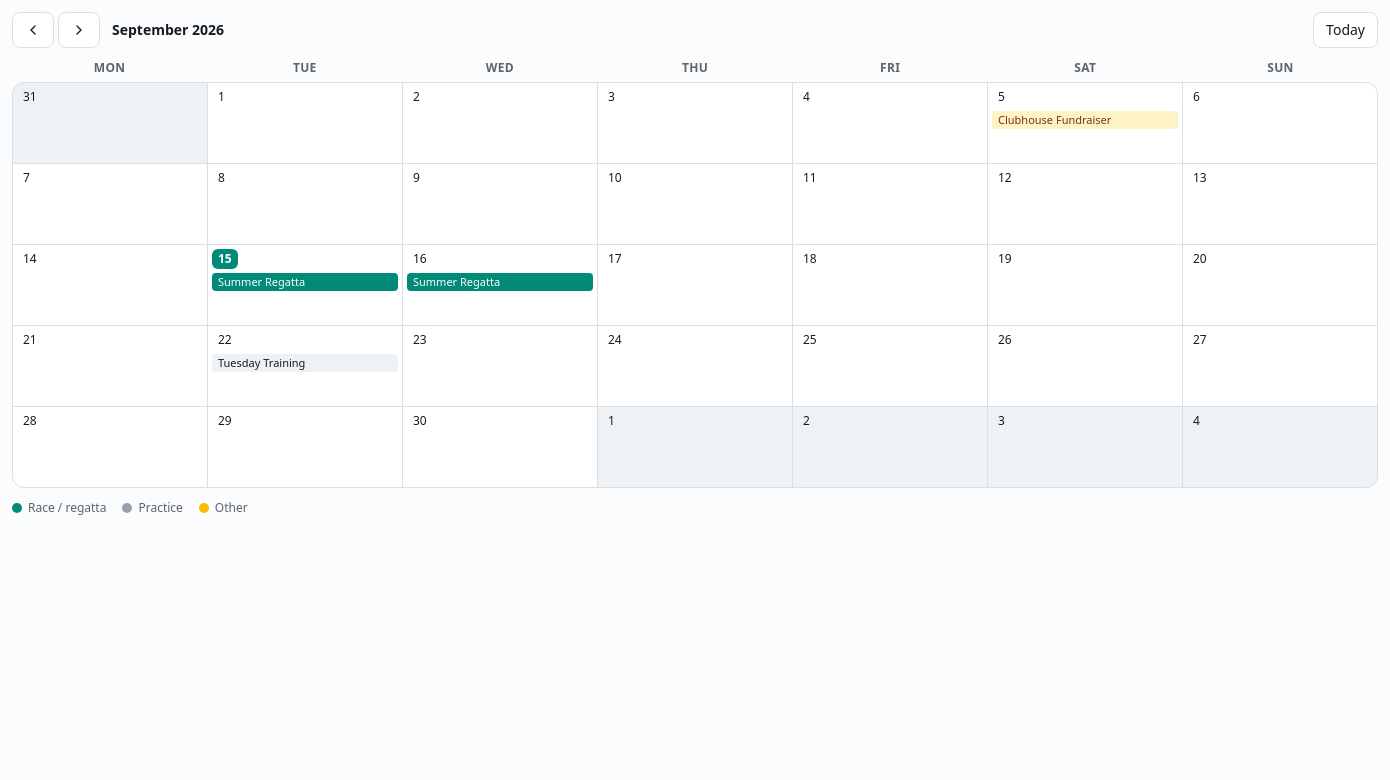
Test case: EventsCalendar › returns to the current month with the Today button
Step 1. Click the button named "Previous month" → (33, 30), box [12,12,54,48]
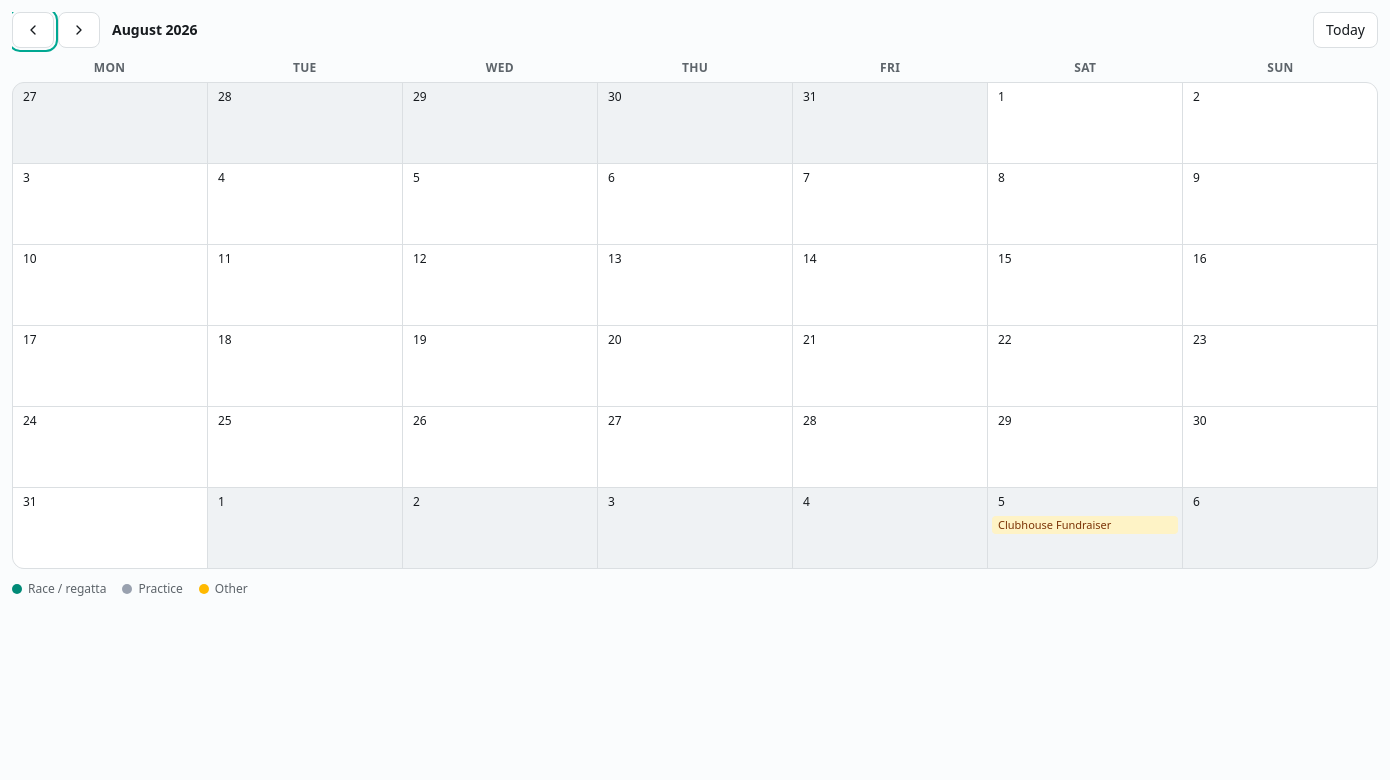
Expected: the link "Summer Regatta" is gone
Step 2. Click the button "Today" → (1346, 30), box [1313,12,1378,48]
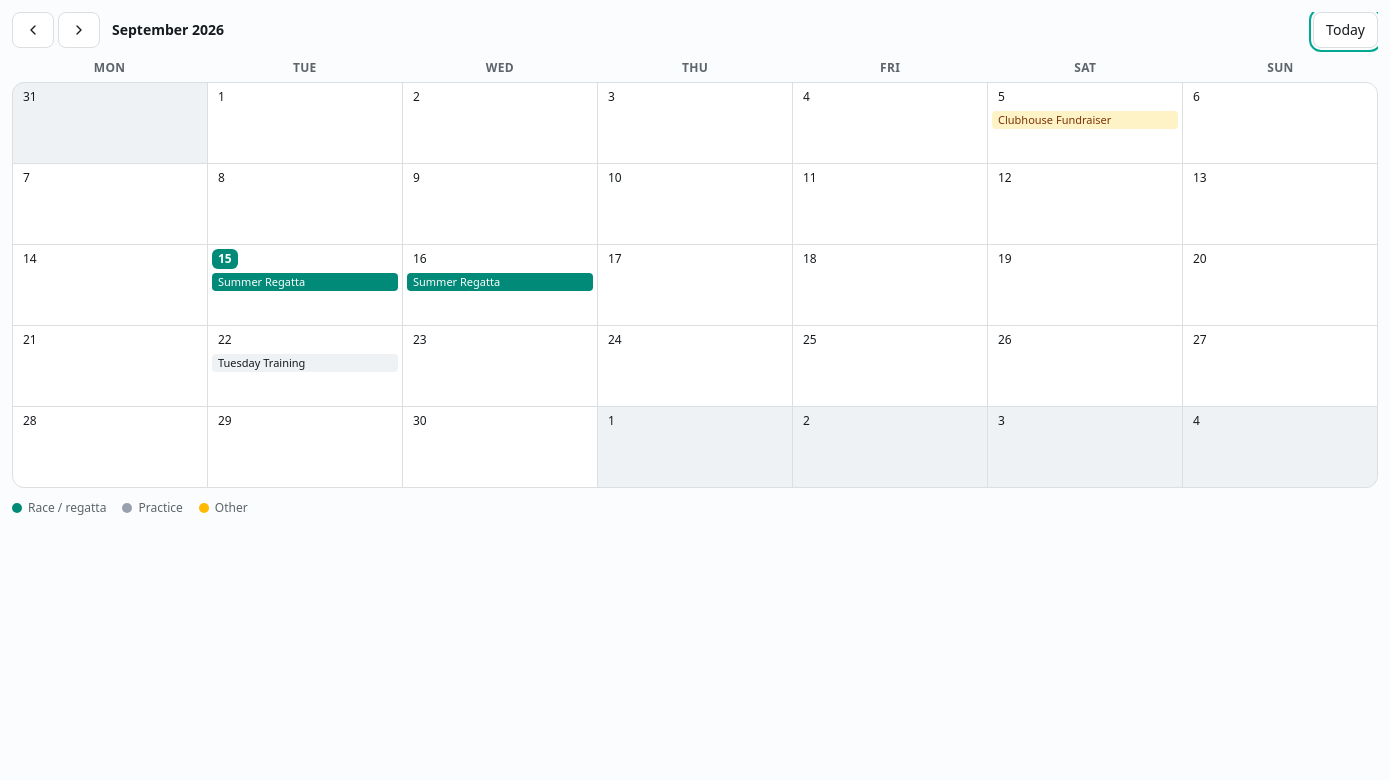
Expected: the number of links "Summer Regatta" is 2, [212,273,398,291]; [407,273,593,291]
